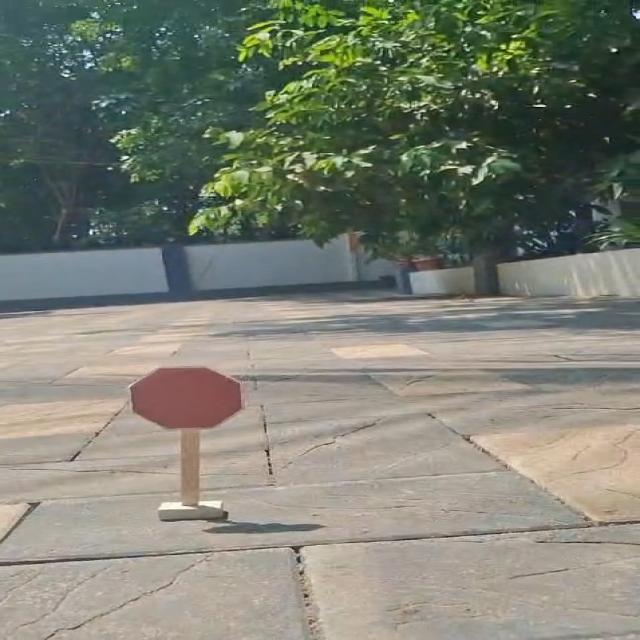Stop: (117, 358, 256, 437)
